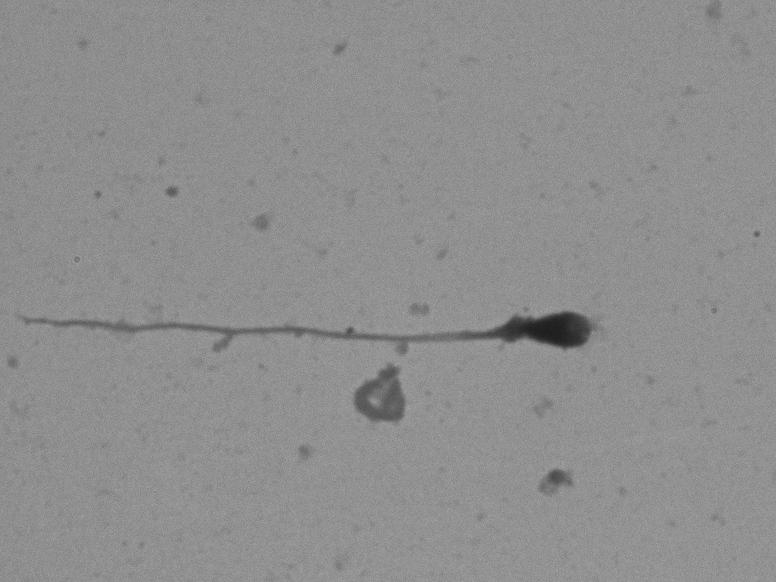Abnormal: (11, 263, 618, 366)
